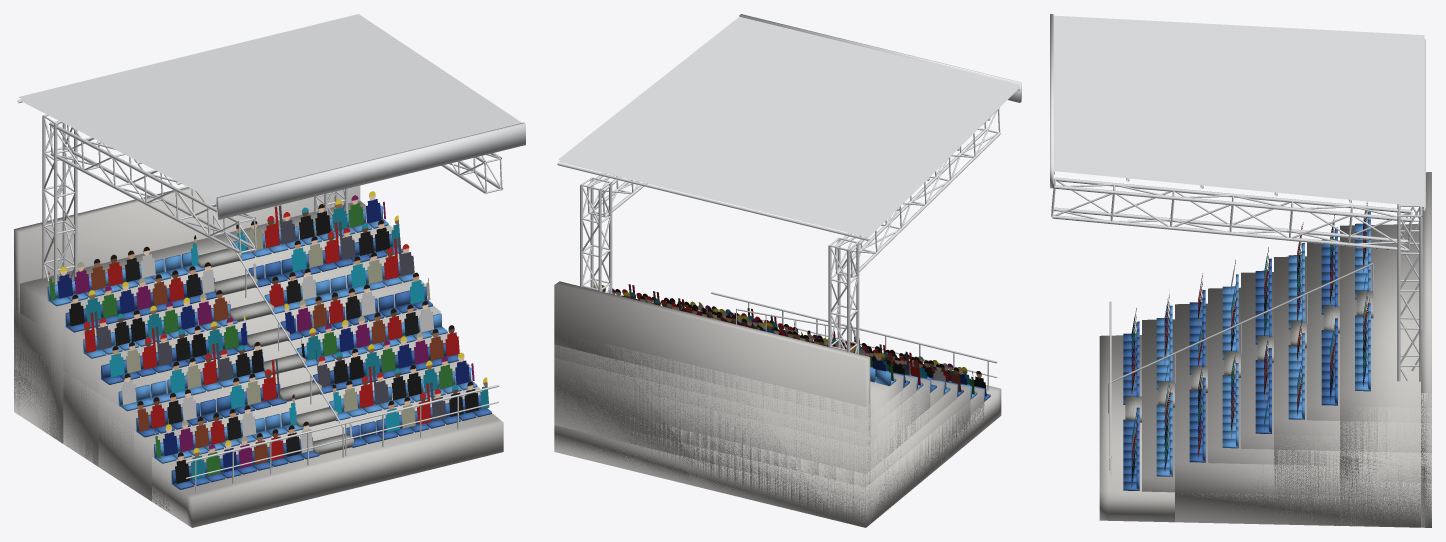
The model's file is bay_10m_curve6_roof_crowd.glb.
3 views of the same model, side by side, from view 1: azimuth 30°, elevation 25°; view 2: azimuth 150°, elevation 25°; view 3: azimuth 270°, elevation 25° (orthographic). The views are drawn at different scales.
Visible parts, largest first — view 1: bay_10m_curve6_roof_crowd; view 2: bay_10m_curve6_roof_crowd; view 3: bay_10m_curve6_roof_crowd.
Part boxes in pixels (x1,y1,x2,y2): bay_10m_curve6_roof_crowd: (14,14,525,527); bay_10m_curve6_roof_crowd: (554,14,1021,527); bay_10m_curve6_roof_crowd: (1050,14,1431,527).
Size of the model in its own units: 10.92 by 10.62 by 10.4.
8 materials, 1 textured.
